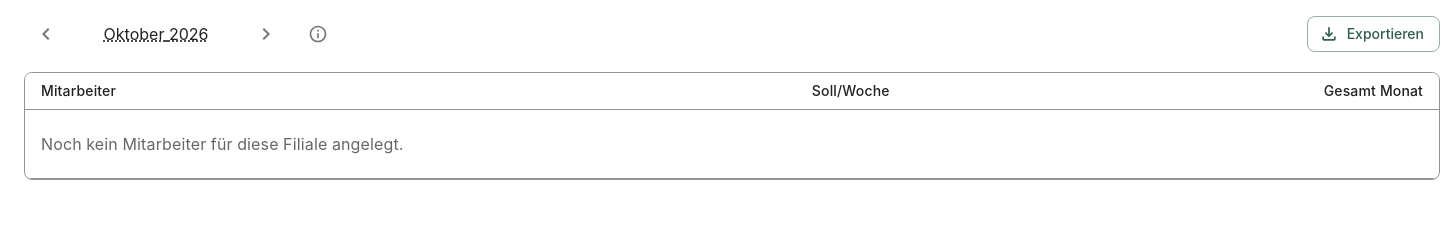
Test: MonthOverviewView › advances the month, wrapping December of this year into January of the next
The width and height of the screenshot is (1452, 226).
Step 1. Click the button named "Nächster Monat" → (266, 34), box [244,12,288,56]
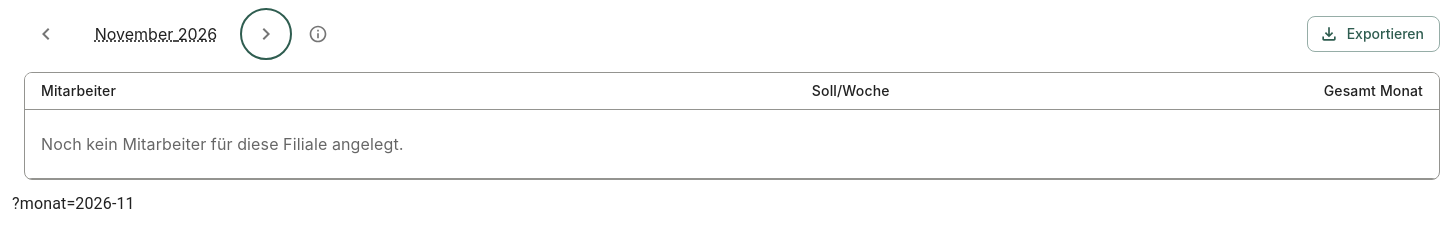
Step 2. Click the button named "Nächster Monat" → (266, 34), box [244,12,288,56]
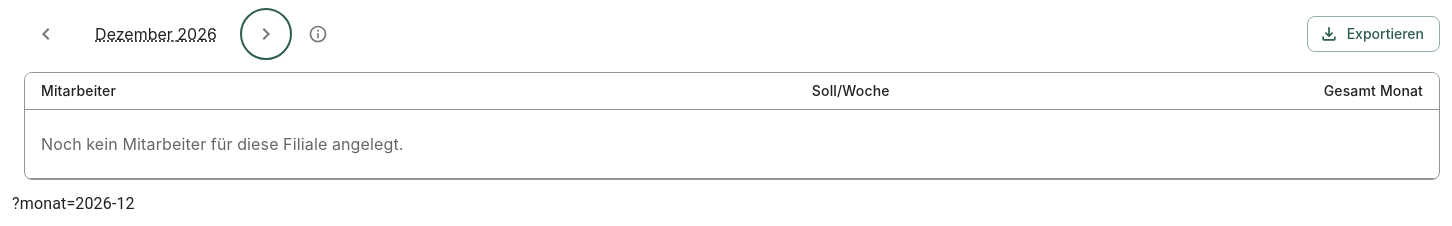
Expected: the button "Dezember 2026" is shown, [76,14,236,54]
Step 3. Click the button named "Nächster Monat" → (266, 34), box [244,12,288,56]
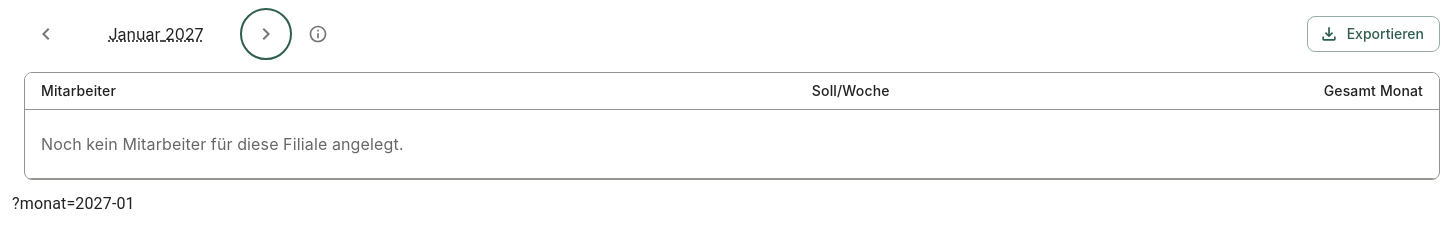
Expected: the button "Januar 2027" is shown, [76,14,236,54]
